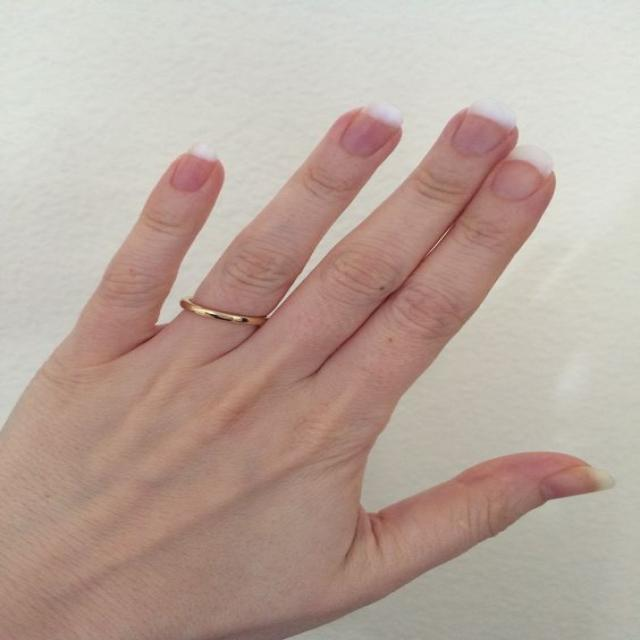Fingernail: (454, 100, 517, 160), (494, 146, 553, 204), (340, 103, 403, 157), (544, 466, 617, 502), (171, 147, 218, 196)
